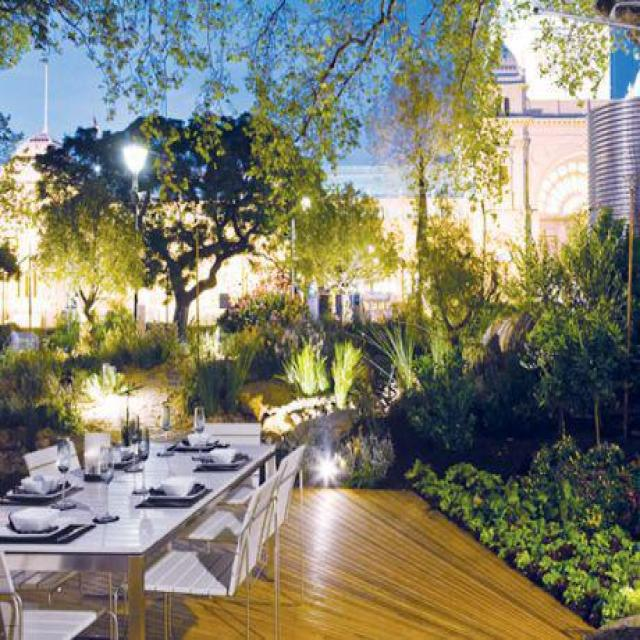other: (6, 166, 62, 334), (114, 134, 158, 199), (301, 440, 352, 494)
